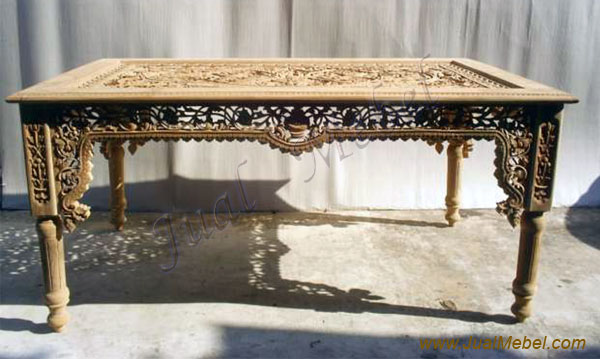Carving Table: (19, 52, 568, 342)
